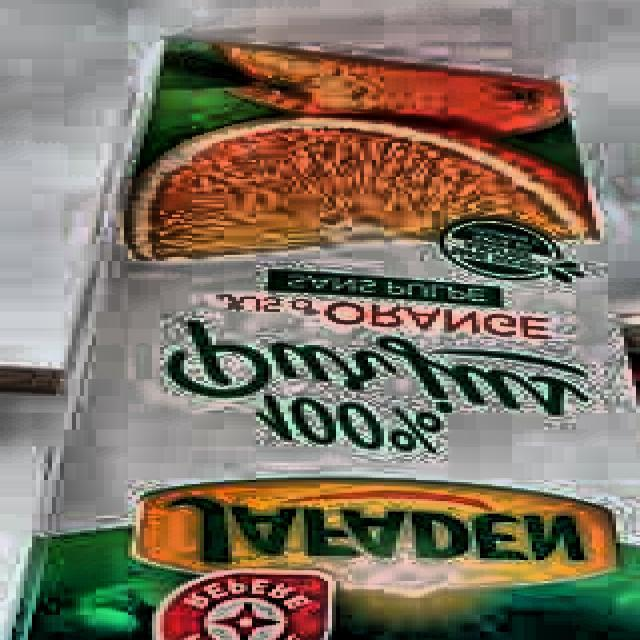cardboard: (4, 38, 640, 640)
